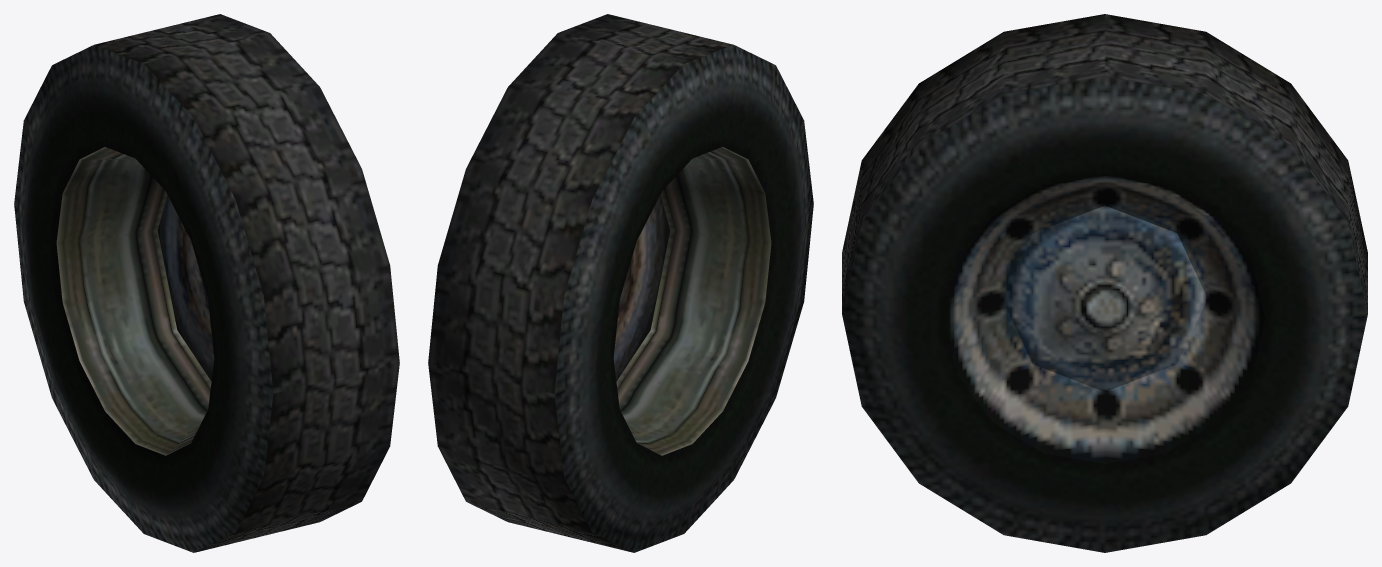
File: tire_r.fbx
3 renders of one model, left to right at view 1: azimuth 30°, elevation 25°; view 2: azimuth 150°, elevation 25°; view 3: azimuth 270°, elevation 25°, orthographic.
Visible parts, largest first — view 1: tire_fr; view 2: tire_fr; view 3: tire_fr.
Part boxes in pixels (<box>): tire_fr: <box>14,14,399,552</box>; tire_fr: <box>428,14,813,552</box>; tire_fr: <box>842,14,1367,552</box>.
Bounding box in the file's own units: 20.45 × 60.12 × 60.12.
1 material, 1 textured.
